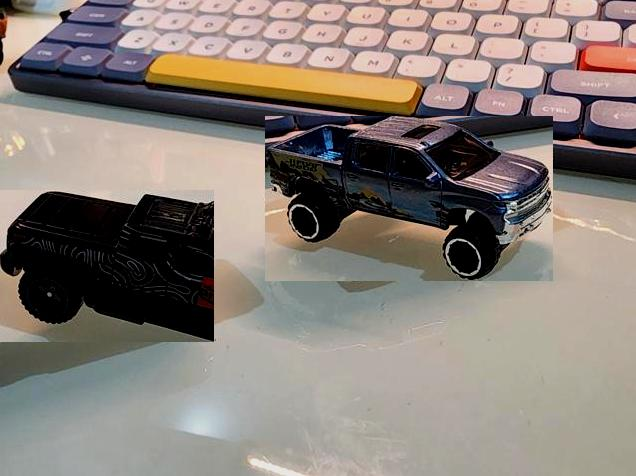toy-car: (266, 117, 554, 282), (0, 190, 214, 342)
